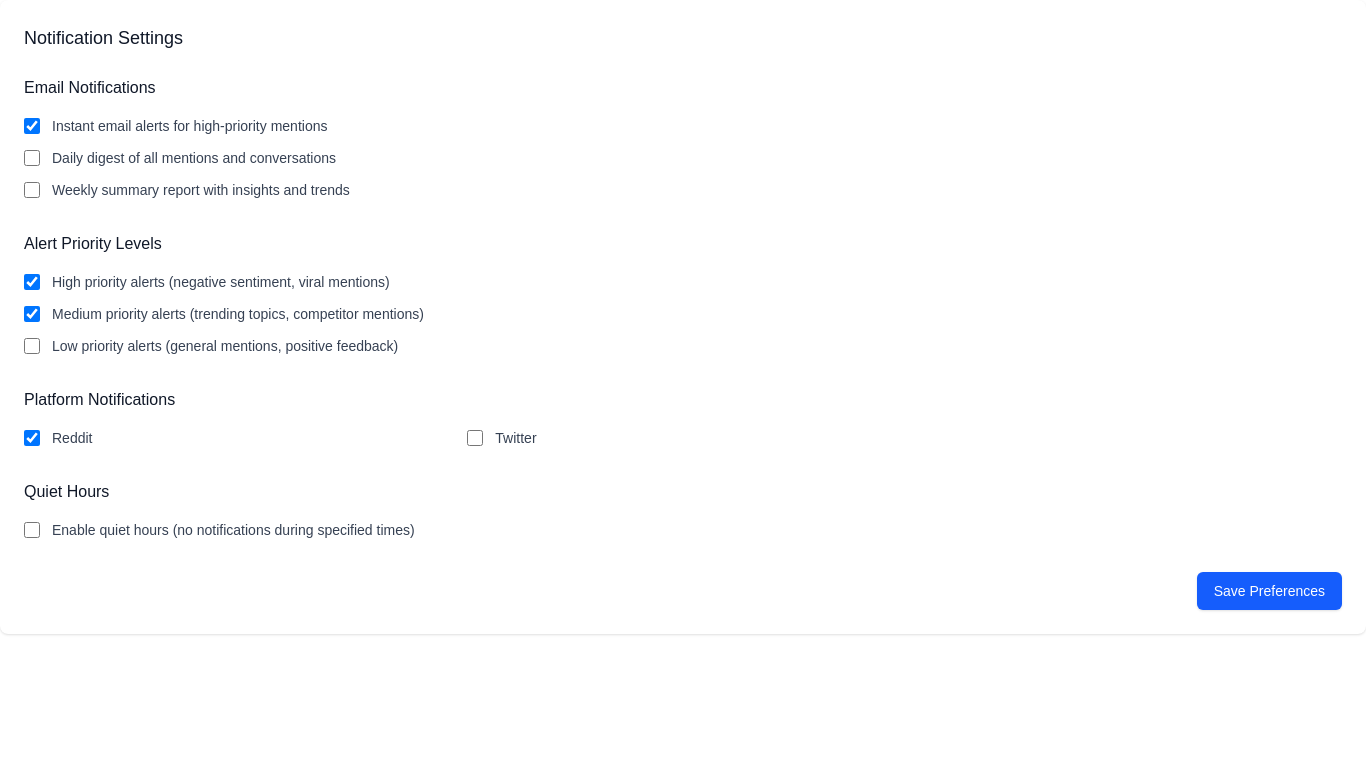
Test case: NotificationSettings › displays error message when update fails
This screenshot has width=1366, height=768.
Click the button "Save Preferences": point(1269, 591) [1197, 572, 1342, 610]
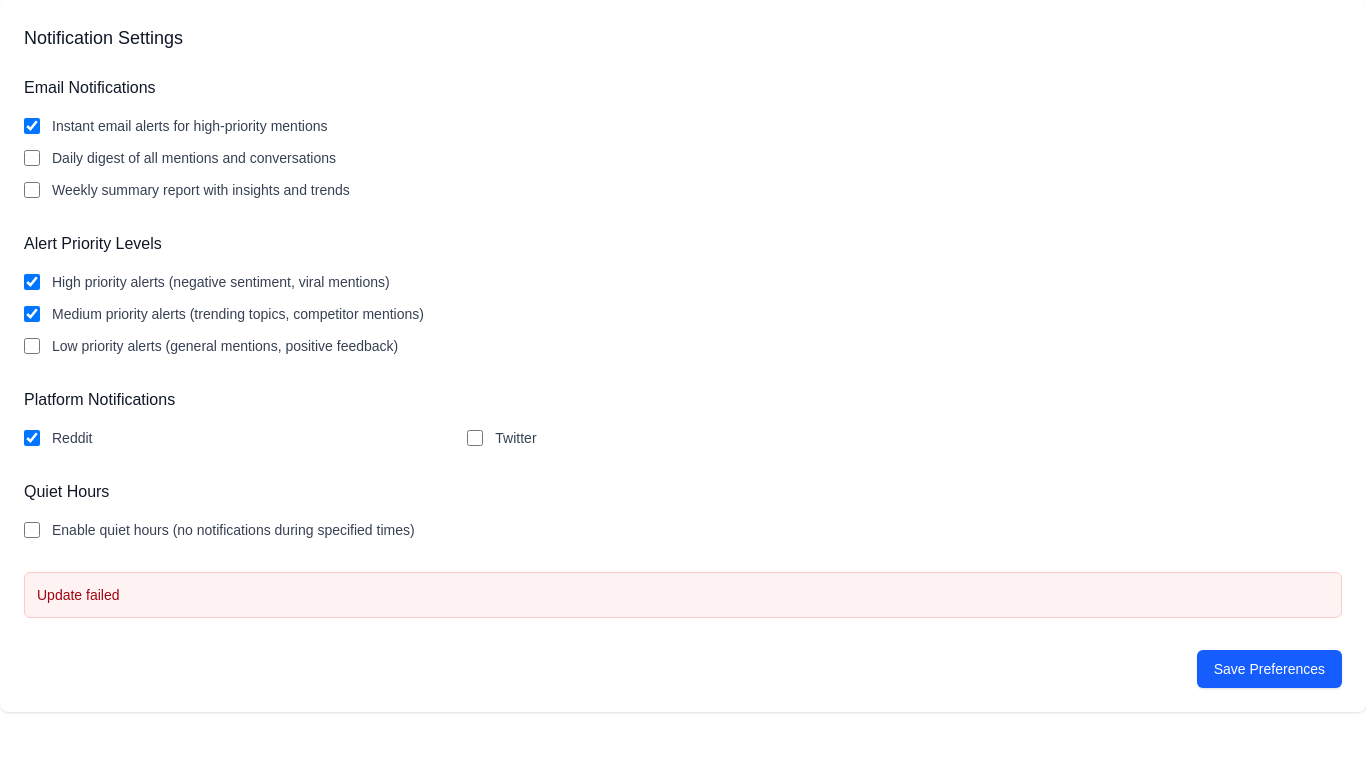
Now the text "Update failed" is shown, box [37, 587, 120, 603]
